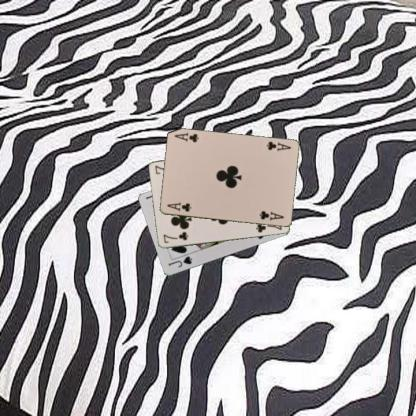7c: (160, 230, 190, 244)
Ac: (263, 138, 292, 152), (164, 200, 192, 214)
Js: (166, 254, 193, 268)
